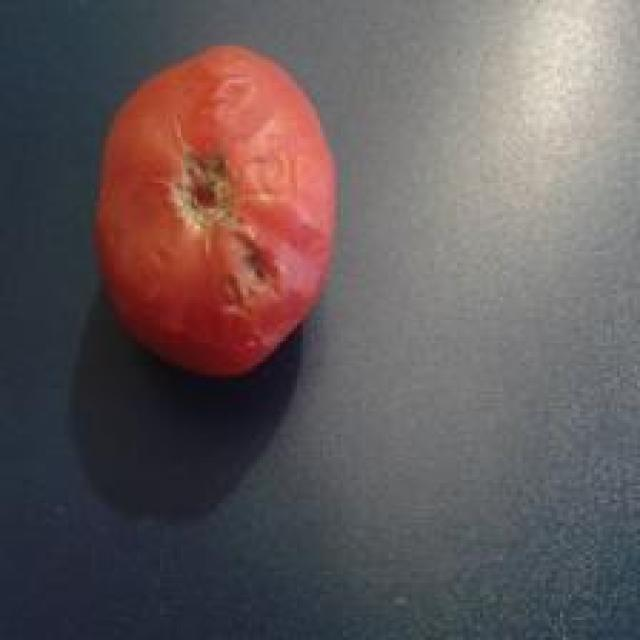overripe: (84, 43, 339, 382)
